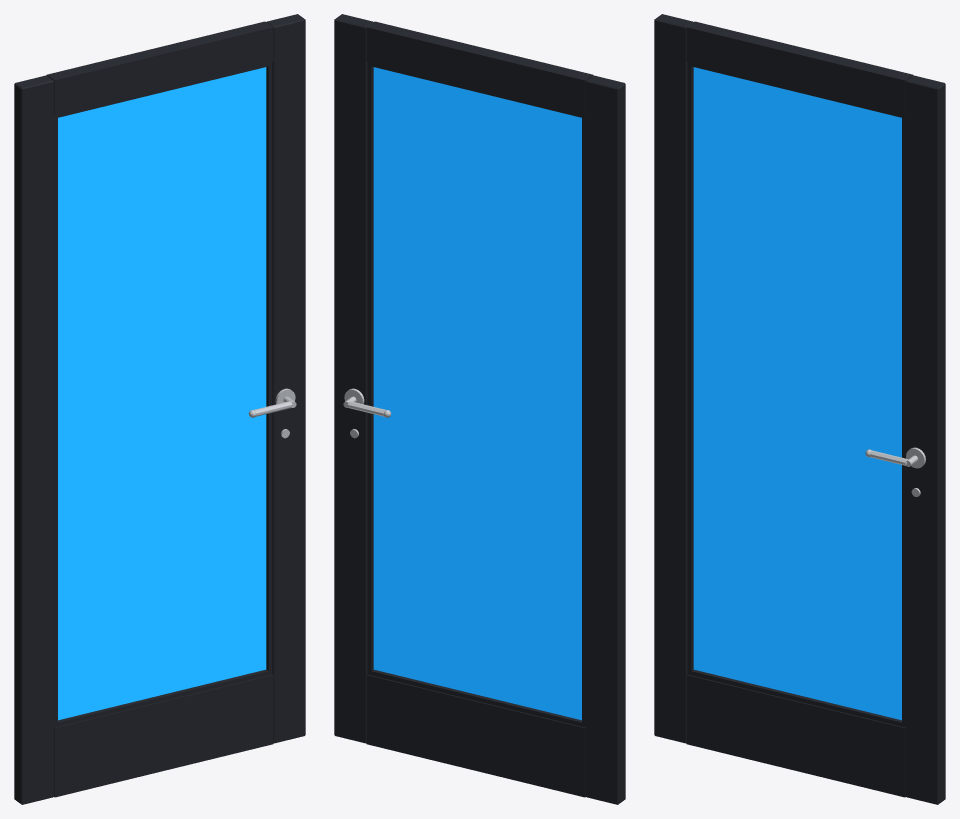
The model's file is porta_vidro_inteiro_preta.glb.
3 views of the same model, side by side, from view 1: azimuth 30°, elevation 25°; view 2: azimuth 150°, elevation 25°; view 3: azimuth 330°, elevation 25° (orthographic).
Visible parts, largest first — view 1: porta_vidro_inteiro_preta; view 2: porta_vidro_inteiro_preta; view 3: porta_vidro_inteiro_preta.
Part boxes in pixels (bbox=[...]): porta_vidro_inteiro_preta: bbox=[14, 14, 305, 804]; porta_vidro_inteiro_preta: bbox=[334, 14, 625, 804]; porta_vidro_inteiro_preta: bbox=[654, 14, 945, 804].
Size of the model in its own units: 0.86 by 2.07 by 0.143.
